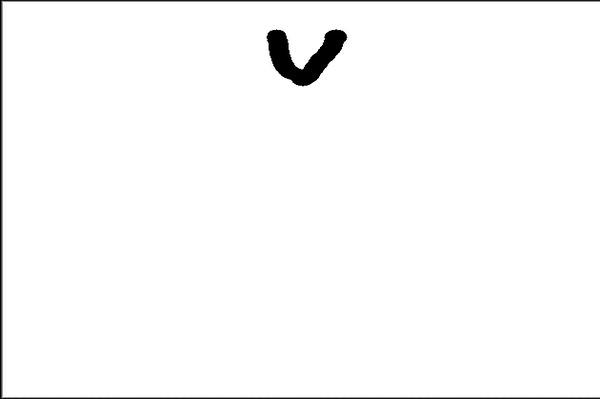V: (241, 19, 368, 98)
